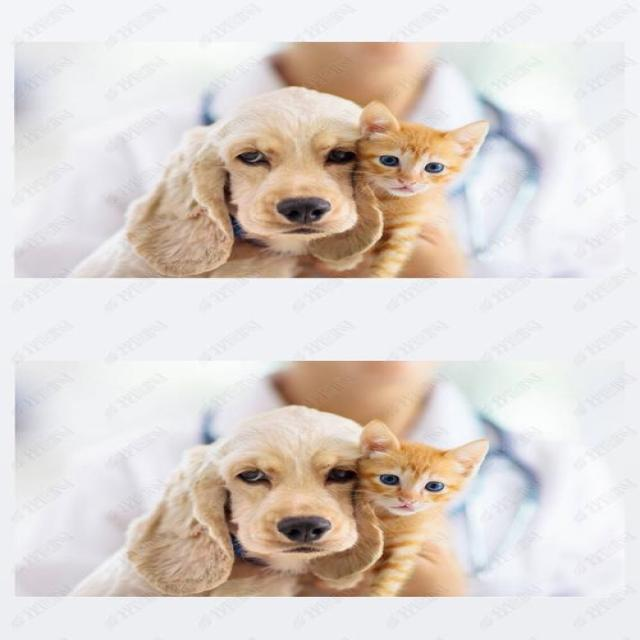cat: (361, 91, 502, 279), (348, 423, 486, 601)
dog: (133, 388, 374, 611), (159, 71, 356, 277)
